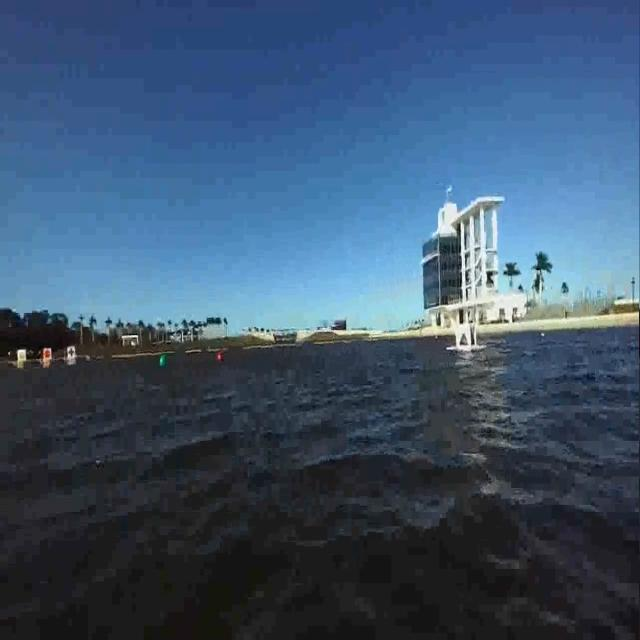green-buoy: (160, 353, 168, 368)
red-column-buoy: (217, 350, 223, 362)
